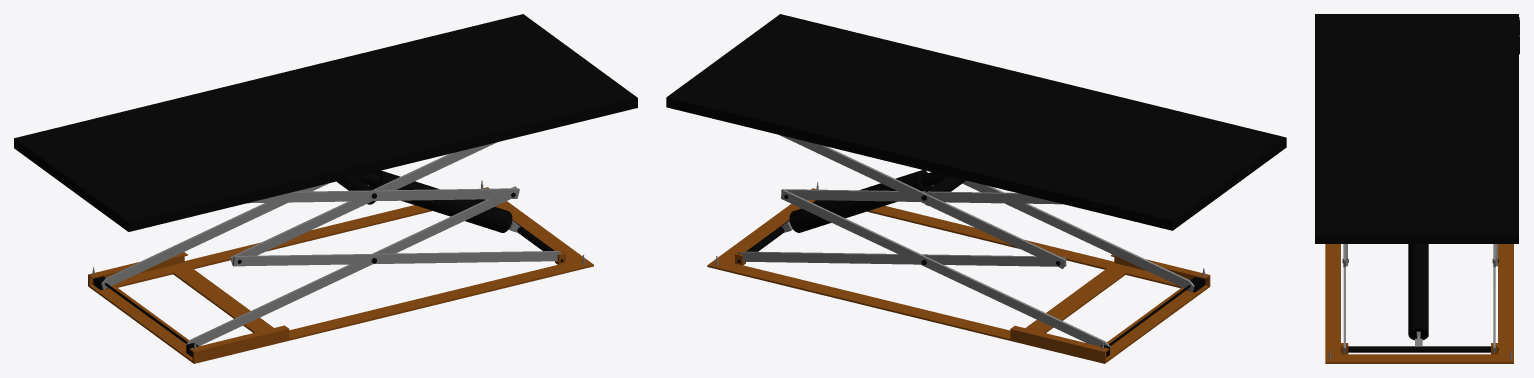
File: TransScaffold.fbx
3 renders of one model, left to right at view 1: azimuth 30°, elevation 25°; view 2: azimuth 150°, elevation 25°; view 3: azimuth 270°, elevation 25°, orthographic. The views are drawn at different scales.
Parts seen in each view (by area): view 1: ghhhh; view 2: ghhhh; view 3: ghhhh.
Part boxes in pixels (x1=…): ghhhh: x1=14, y1=14, x2=637, y2=363; ghhhh: x1=666, y1=14, x2=1286, y2=363; ghhhh: x1=1315, y1=14, x2=1519, y2=363.
Bounding box in the file's own units: 1.77 × 0.5431 × 0.6928.
